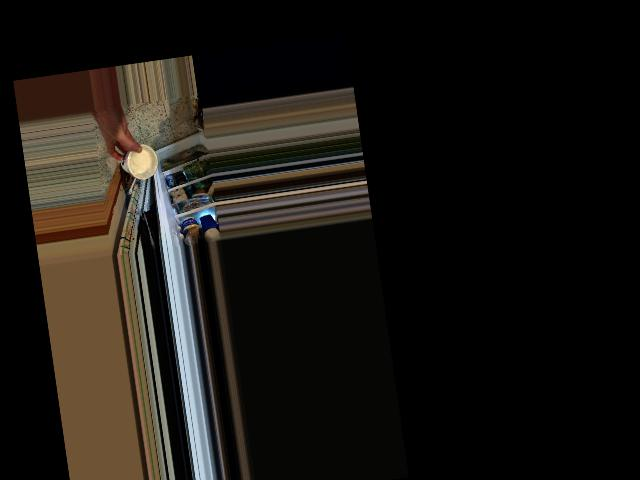cotage: (115, 144, 157, 183)
